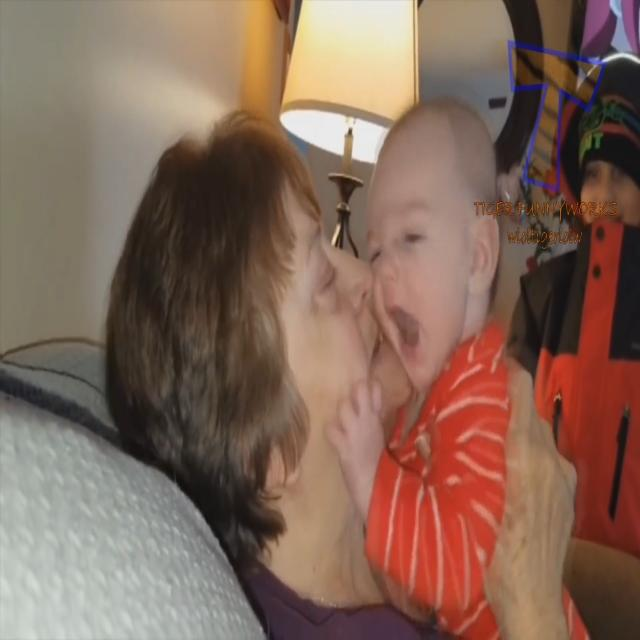safe: (367, 90, 532, 592)
